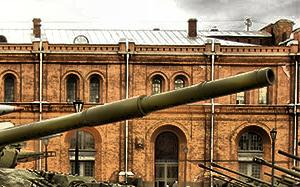tanks: (1, 71, 275, 187)
